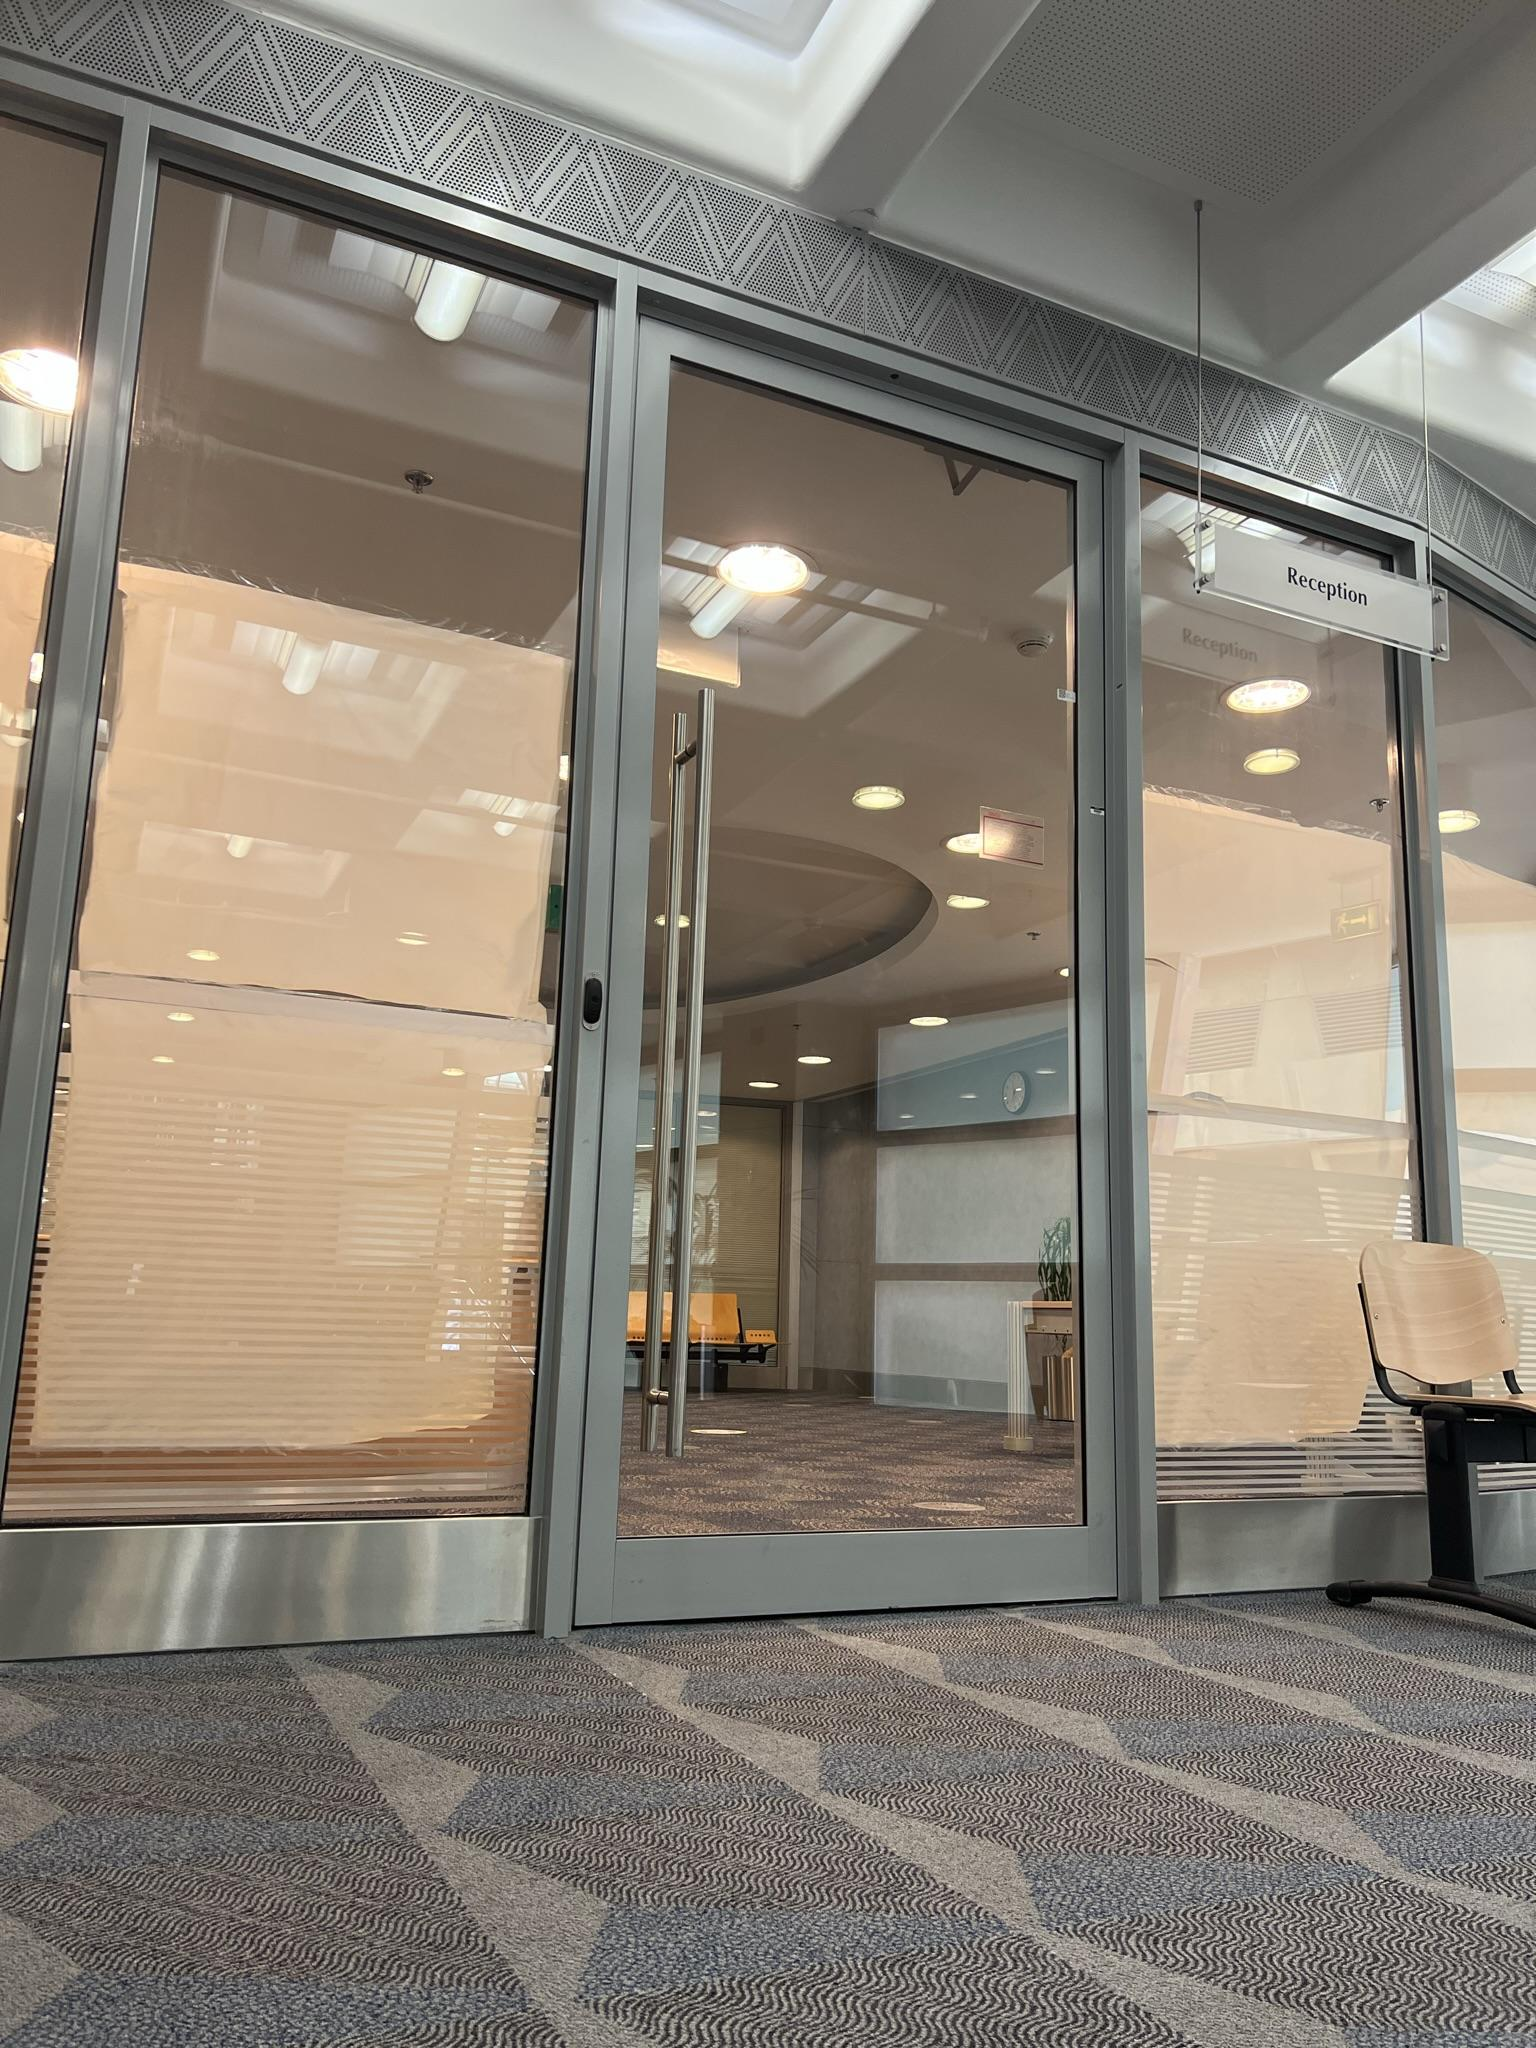door: (652, 306, 1129, 1601)
handle: (682, 666, 716, 1458)
